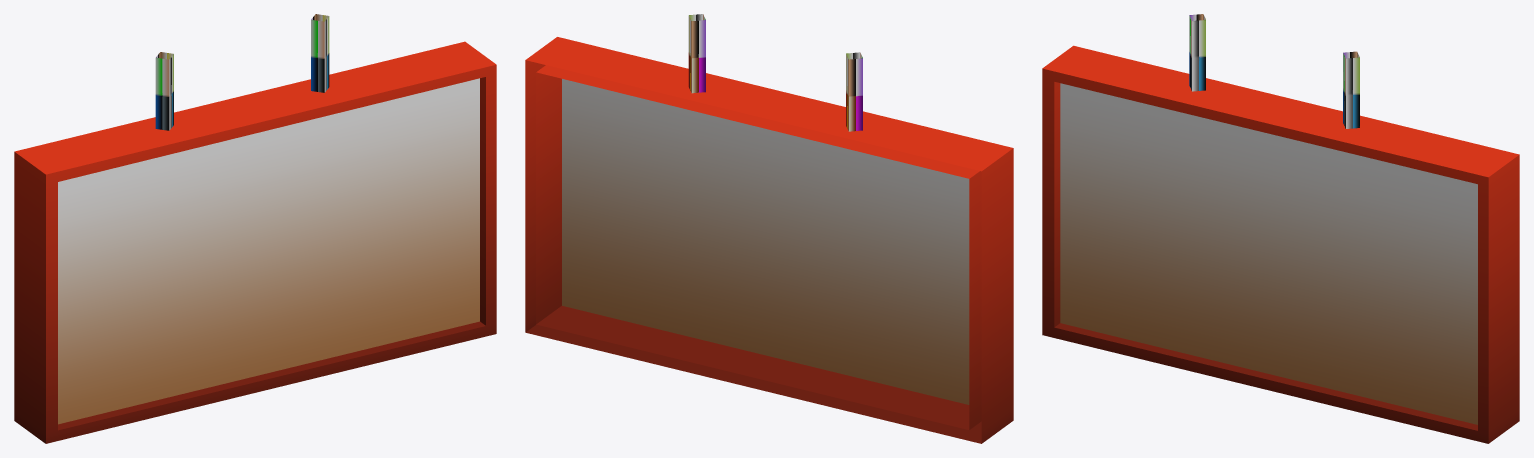
Rendered from Panneau_uI.fbx.
3 renders of one model, left to right at view 1: azimuth 30°, elevation 25°; view 2: azimuth 150°, elevation 25°; view 3: azimuth 330°, elevation 25°, orthographic. The views are drawn at different scales.
Visible parts, largest first — view 1: Cube.154; view 2: Cube.154; view 3: Cube.154.
Part boxes in pixels (x1=…): Cube.154: x1=14, y1=14, x2=496, y2=443; Cube.154: x1=525, y1=14, x2=1013, y2=443; Cube.154: x1=1042, y1=14, x2=1519, y2=443.
Size of the model in its own units: 49.07 by 35.43 by 5.95.
